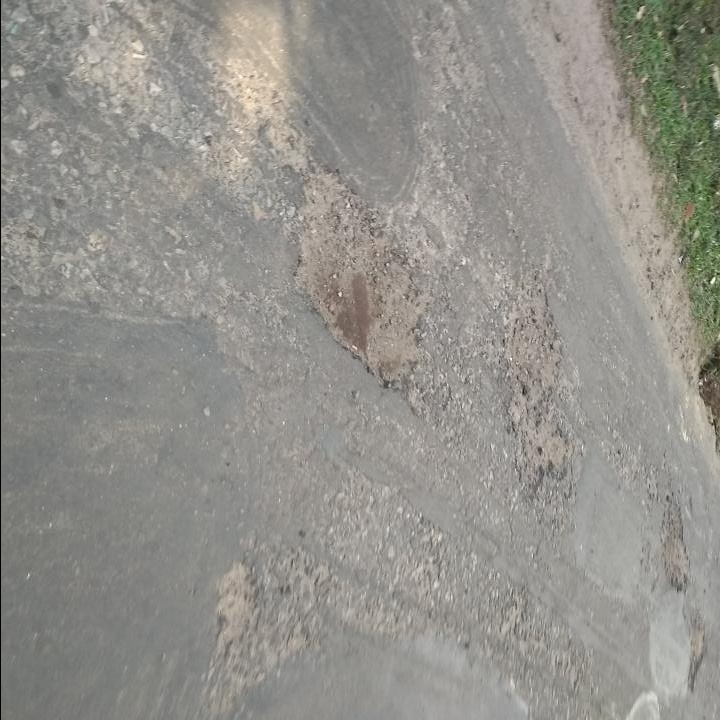pothole: (288, 158, 434, 395), (502, 268, 572, 498), (655, 489, 694, 593), (681, 617, 710, 692)
